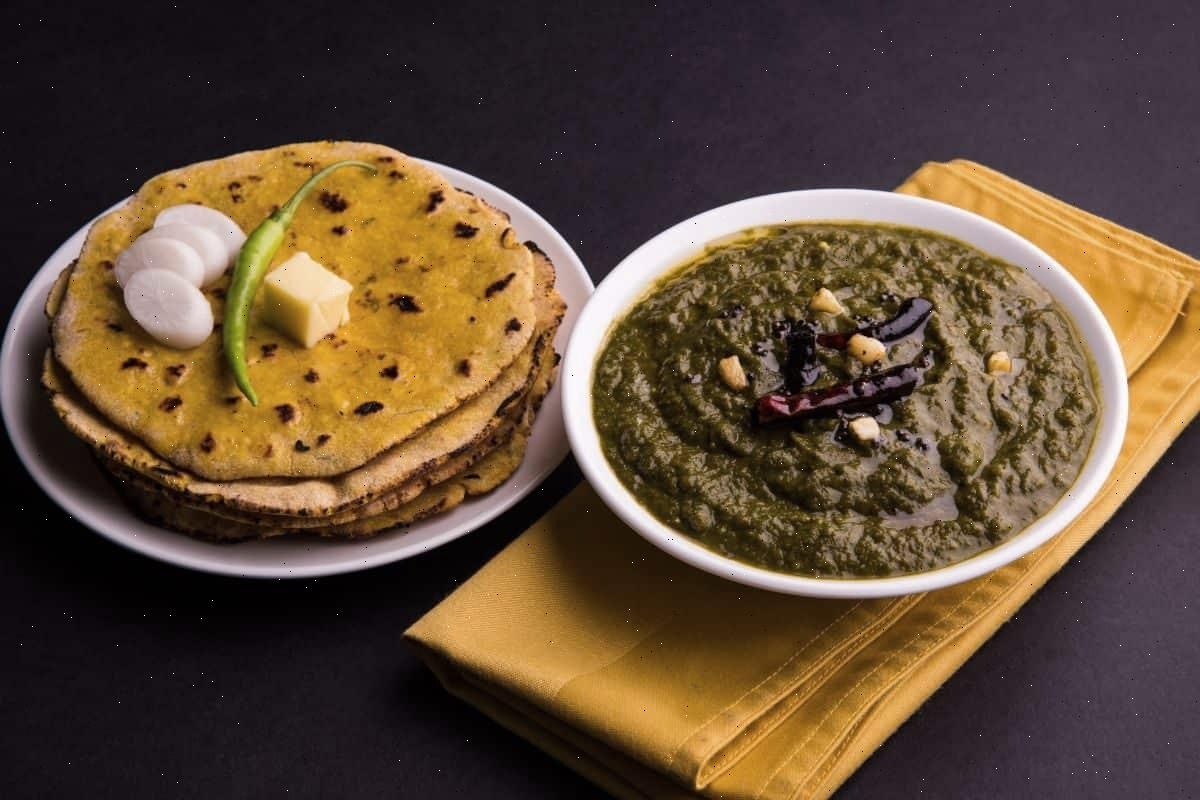saag: (589, 223, 1103, 583)
